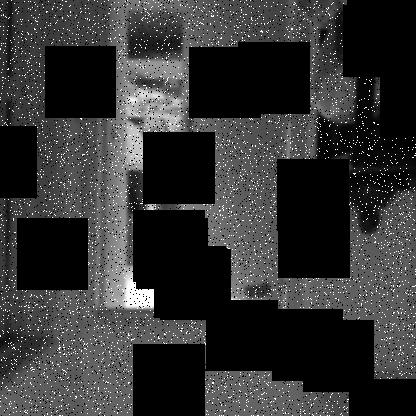Porte: (81, 0, 303, 328)
